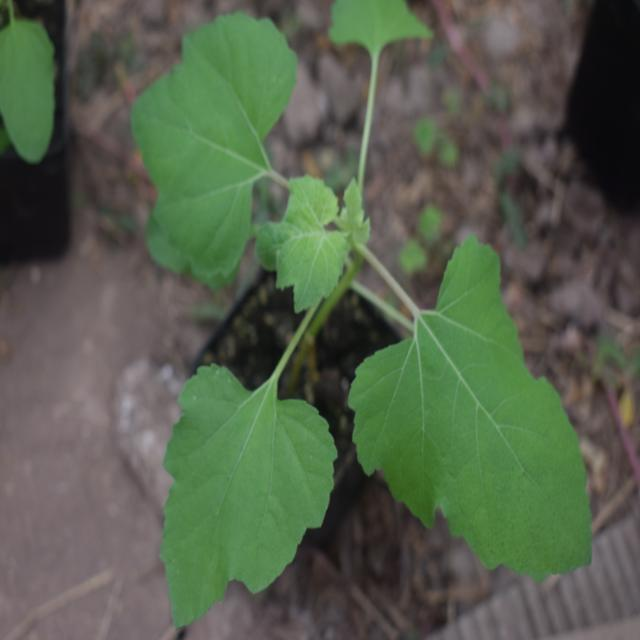cocklebur: (134, 6, 604, 606)
